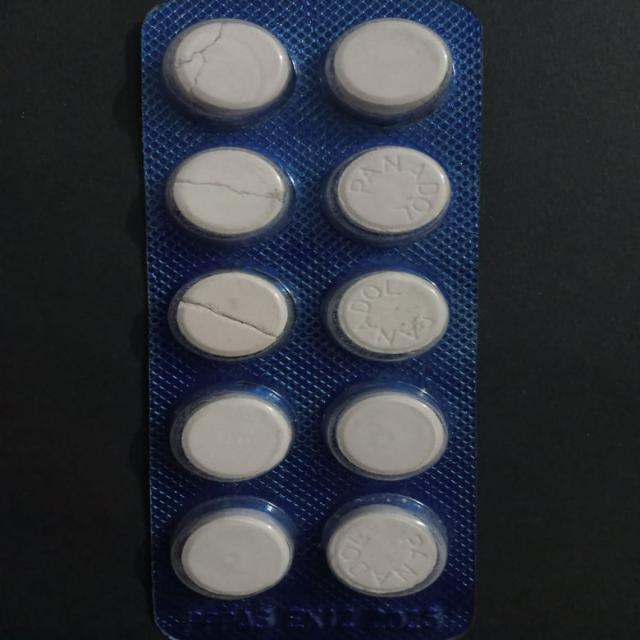defect: (160, 12, 299, 124), (161, 263, 299, 366), (160, 144, 299, 244)
